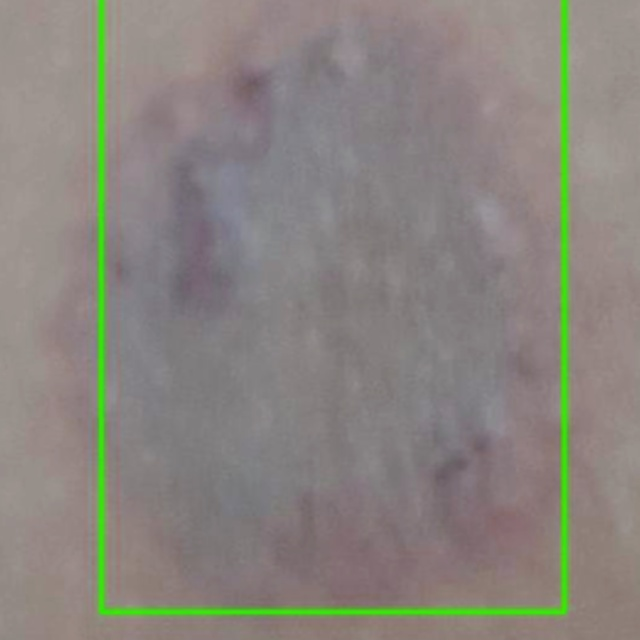Eczema: (101, 0, 564, 611)
